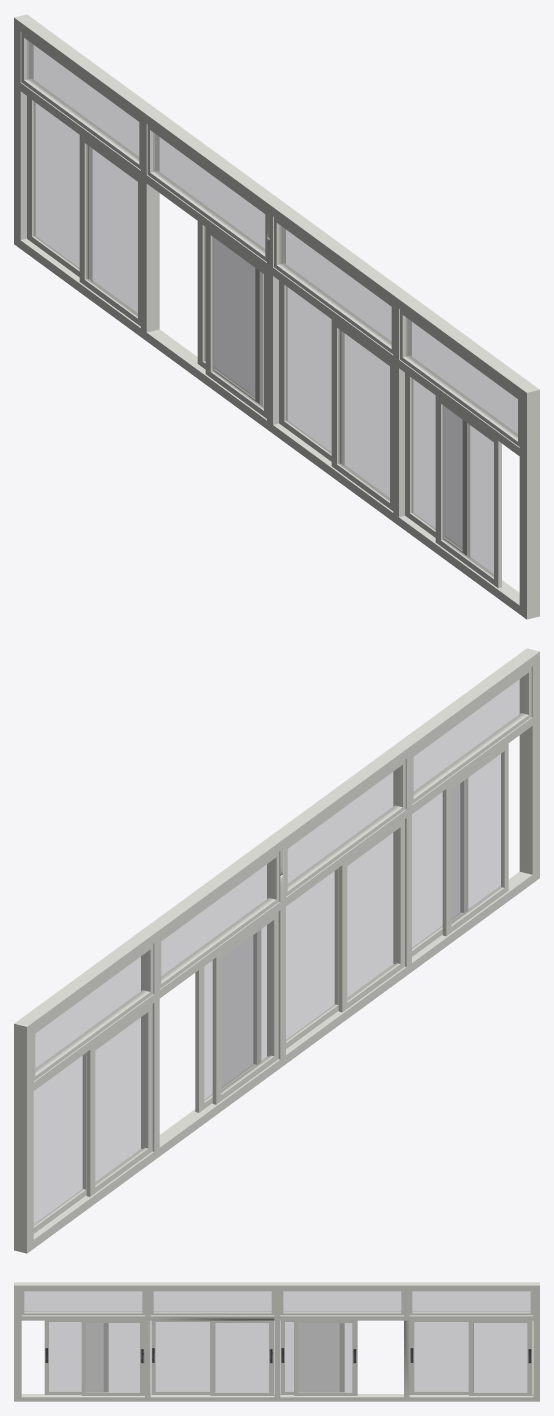
File: Window.FBX
The picture shows the model from 3 angles, top to bottom: view 1: azimuth 30°, elevation 25°; view 2: azimuth 150°, elevation 25°; view 3: azimuth 270°, elevation 25°; orthographic projection. The views are drawn at different scales.
Parts seen in each view (by area): view 1: window frame, window 2, window 3, window 8, window 5, window 4, window 7, window 1, window 6; view 2: window frame, window 2, window 3, window 5, window 8, window 6, window 7, window 4, window 1; view 3: window frame, window 4, window 6, window 7, window 1, window 3, window 8, window 2, window 5.
Boxes of the visible parts, x1,y1,x2,y2 form: window frame: [14, 14, 539, 619]; window 2: [435, 395, 501, 588]; window 3: [331, 319, 393, 510]; window 8: [79, 135, 140, 326]; window 5: [205, 227, 266, 418]; window 4: [279, 280, 344, 465]; window 7: [27, 96, 92, 281]; window 1: [405, 373, 470, 557]; window 6: [197, 221, 263, 406]; window frame: [14, 648, 539, 1253]; window 2: [442, 743, 508, 936]; window 3: [338, 819, 404, 1012]; window 5: [212, 912, 278, 1104]; window 8: [86, 1004, 152, 1196]; window 6: [195, 930, 261, 1112]; window 7: [33, 1052, 86, 1233]; window 4: [286, 868, 338, 1048]; window 1: [412, 778, 468, 956]; window frame: [14, 1282, 539, 1401]; window 4: [210, 1320, 273, 1395]; window 6: [294, 1320, 357, 1395]; window 7: [469, 1320, 532, 1395]; window 1: [81, 1320, 144, 1395]; window 3: [151, 1320, 215, 1394]; window 8: [409, 1320, 473, 1394]; window 2: [44, 1320, 108, 1394]; window 5: [280, 1320, 344, 1394].
Bounding box in the file's own units: 141 × 2323 × 9525.
2 materials, 1 textured.
